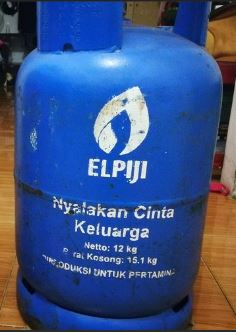blue_gas: (15, 1, 222, 332)
